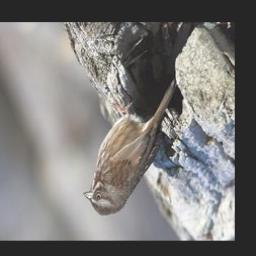Sparrow: (82, 78, 176, 217)
